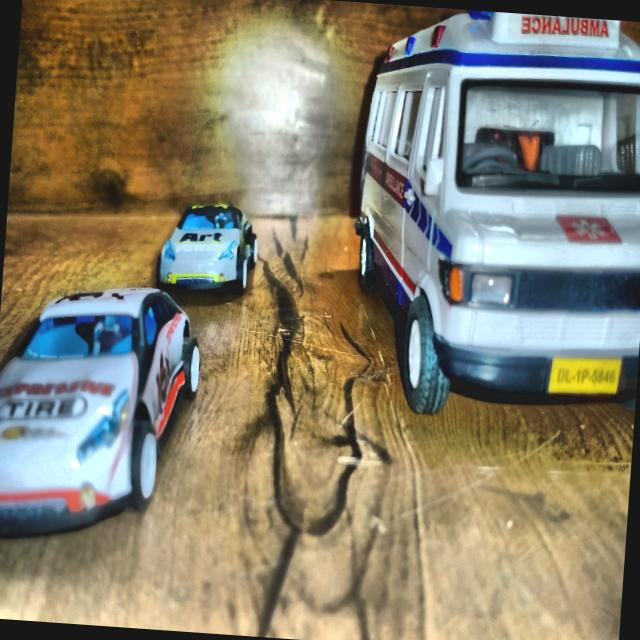Ambulance: (343, 3, 640, 427)
Car: (0, 278, 204, 549), (156, 201, 260, 293)
